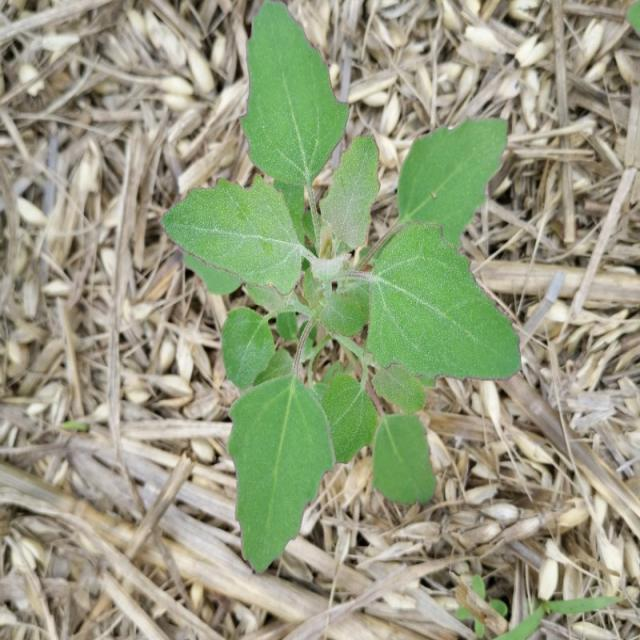ca: (168, 0, 520, 567)
